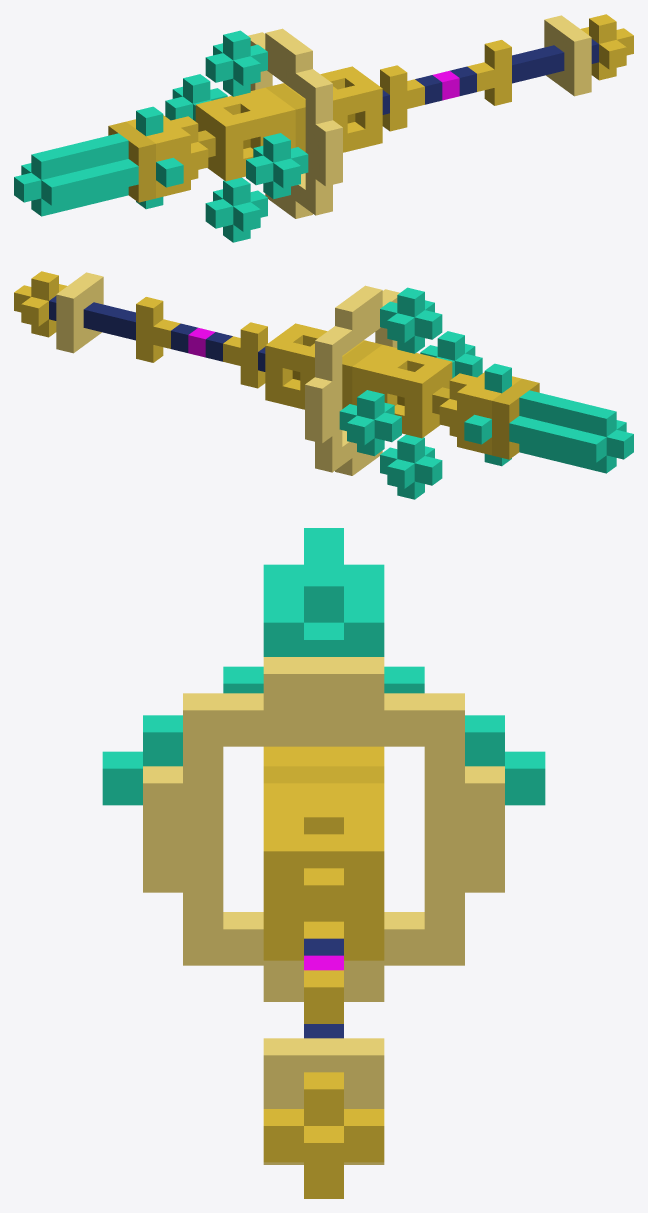
The model's file is template_staff.fbx.
3 renders of one model, top to bottom at view 1: azimuth 30°, elevation 25°; view 2: azimuth 150°, elevation 25°; view 3: azimuth 270°, elevation 25°, orthographic. The views are drawn at different scales.
Parts seen in each view (by area): view 1: model_template_staff_obj; view 2: model_template_staff_obj; view 3: model_template_staff_obj.
Part boxes in pixels (box(x1,y1,x2,y2)): model_template_staff_obj: box(14, 14, 633, 242); model_template_staff_obj: box(14, 271, 633, 499); model_template_staff_obj: box(102, 528, 545, 1198).
Bounding box in the file's own units: 35 × 11 × 11.
